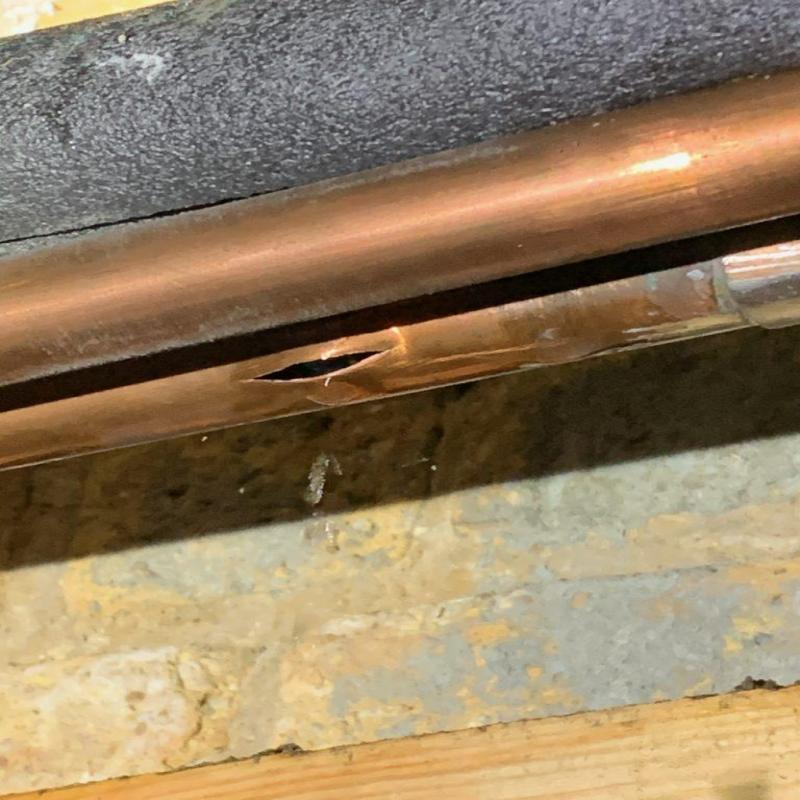Fracture: (247, 353, 417, 381)
